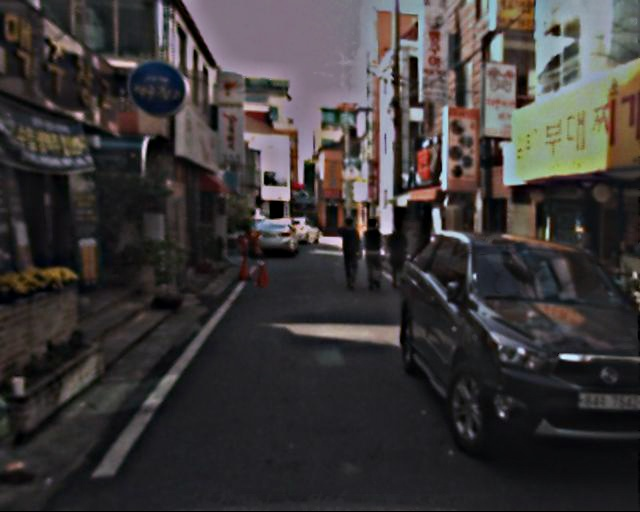person: (358, 216, 389, 292), (335, 218, 365, 290), (382, 222, 409, 289)
